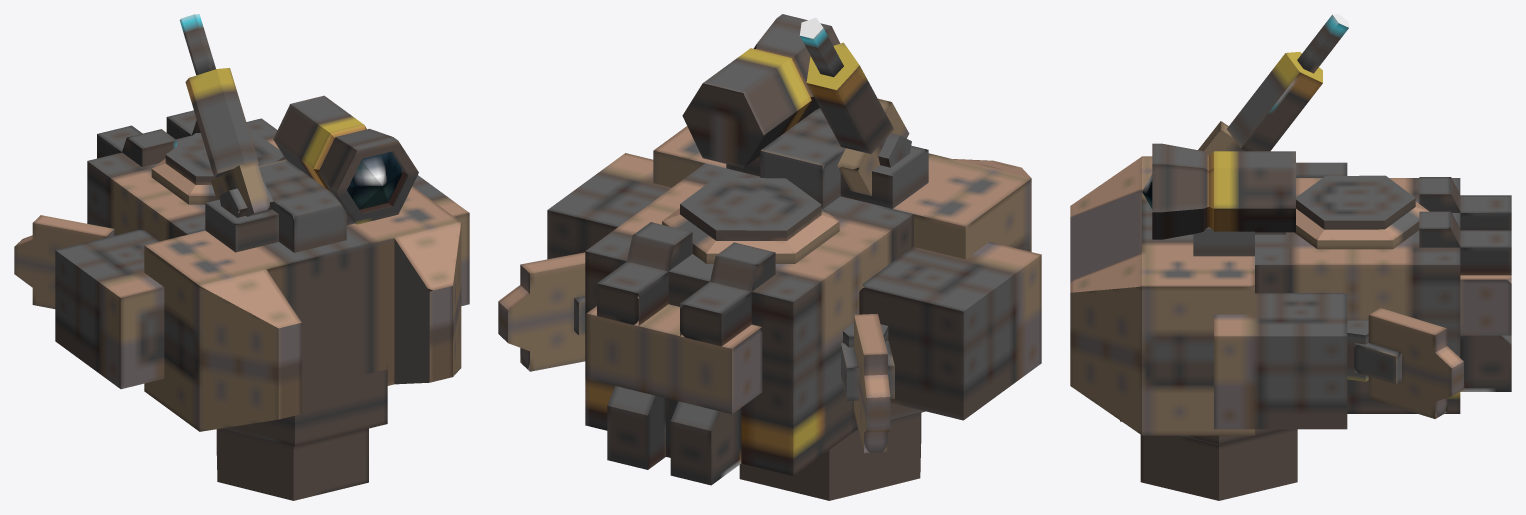
The model's file is tankturret.fbx.
3 renders of one model, left to right at view 1: azimuth 30°, elevation 25°; view 2: azimuth 150°, elevation 25°; view 3: azimuth 270°, elevation 25°, orthographic. The views are drawn at different scales.
Visible parts, largest first — view 1: cuboid_2, cylinder_5, cuboid_9, cylinder_4, cuboid_3, cuboid_8, cylinder_3, cuboid_1, cylinder_6, cuboid_5, cuboid_11, cuboid_10 (+2 smaller); view 2: cuboid_8, cuboid_9, cuboid_4, cuboid_2, cylinder_4, cylinder_6, cuboid_7, cuboid, cuboid_3, cylinder_5, cuboid_10, cylinder_3 (+5 smaller); view 3: cuboid_2, cuboid_10, cuboid_8, cylinder_4, cylinder_5, cuboid, cylinder_6, cylinder_3, cuboid_6, cuboid_5, cuboid_4, cuboid_7 (+4 smaller).
Part boxes in pixels (x1,y1,x2,y2): cuboid_2: [144, 186, 461, 431]; cylinder_5: [216, 365, 387, 500]; cuboid_9: [55, 230, 164, 389]; cylinder_4: [273, 95, 418, 224]; cuboid_3: [205, 159, 354, 252]; cuboid_8: [87, 118, 279, 241]; cylinder_3: [179, 14, 258, 177]; cuboid_1: [14, 215, 114, 308]; cylinder_6: [151, 133, 285, 204]; cuboid_5: [97, 125, 176, 166]; cuboid_11: [211, 161, 271, 216]; cuboid_10: [412, 175, 469, 305]; cuboid_8: [585, 163, 913, 476]; cuboid_9: [859, 242, 1041, 420]; cuboid_4: [586, 296, 762, 414]; cuboid_2: [653, 126, 1031, 259]; cylinder_4: [682, 14, 840, 167]; cylinder_6: [662, 178, 839, 263]; cuboid_7: [607, 386, 741, 485]; cuboid: [498, 252, 585, 371]; cuboid_3: [726, 108, 928, 208]; cylinder_5: [739, 403, 925, 500]; cuboid_10: [547, 153, 671, 259]; cylinder_3: [799, 17, 893, 153]; cuboid_2: [1070, 156, 1254, 435]; cuboid_10: [1214, 293, 1347, 429]; cuboid_8: [1255, 178, 1460, 413]; cylinder_4: [1142, 143, 1295, 239]; cylinder_5: [1120, 420, 1297, 500]; cuboid: [1354, 308, 1463, 418]; cylinder_6: [1294, 175, 1429, 249]; cylinder_3: [1227, 14, 1349, 151]; cuboid_6: [1419, 211, 1511, 275]; cuboid_5: [1419, 177, 1511, 230]; cuboid_4: [1460, 275, 1511, 335]; cuboid_7: [1460, 335, 1511, 391].
Size of the model in its own units: 250 by 287 by 269.
Materials: 1 (1 with a texture image).
